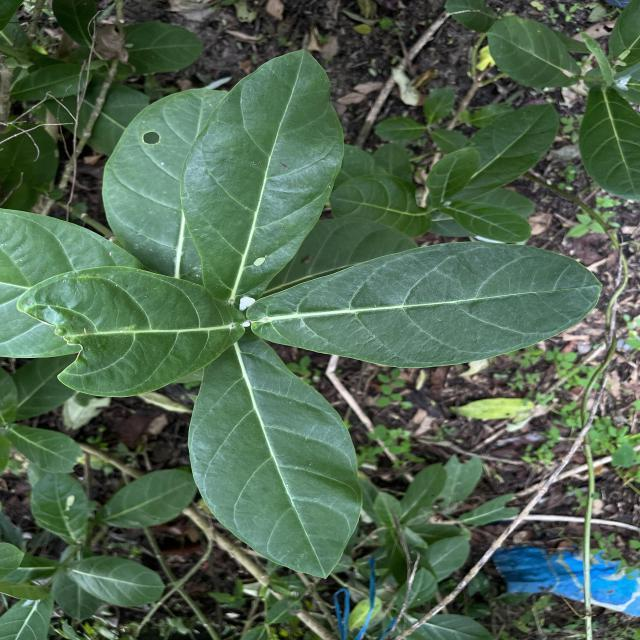Calotropis gigantea: (246, 240, 602, 370), (187, 333, 365, 582), (178, 45, 348, 304), (100, 85, 222, 278), (450, 102, 560, 204), (578, 82, 640, 203), (487, 15, 582, 90), (94, 468, 198, 530), (66, 554, 168, 608), (30, 470, 90, 544)
